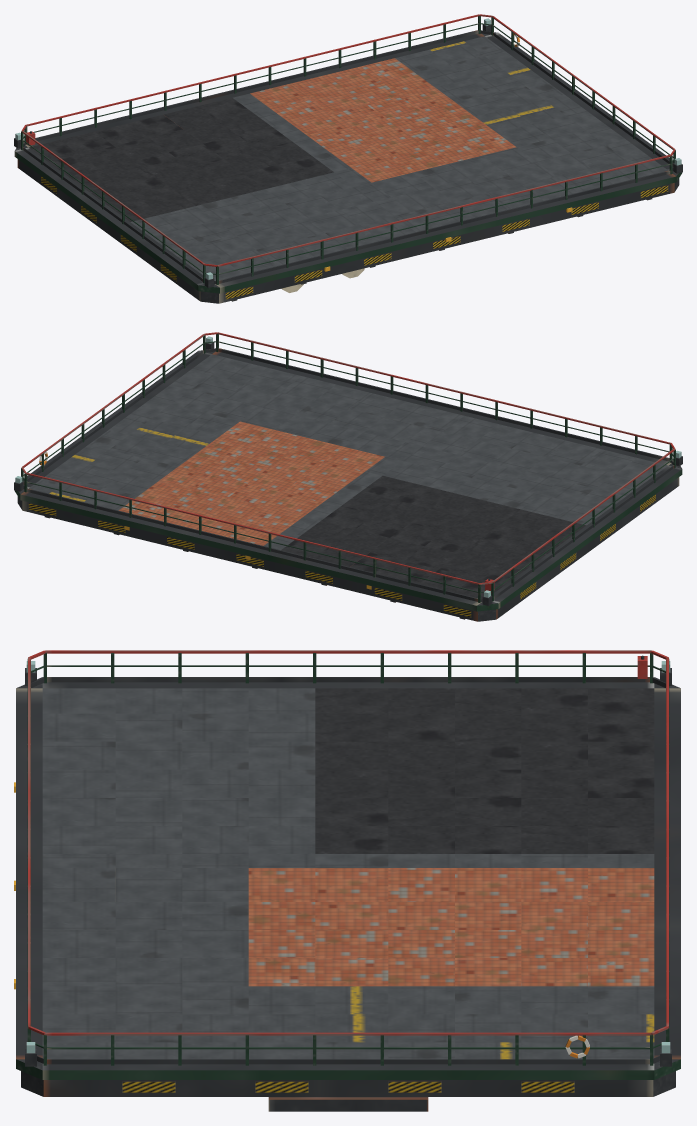
Rendered from Platform.fbx.
3 renders of one model, top to bottom at view 1: azimuth 30°, elevation 25°; view 2: azimuth 150°, elevation 25°; view 3: azimuth 270°, elevation 25°, orthographic. The views are drawn at different scales.
Parts seen in each view (by area): view 1: Platform; view 2: Platform; view 3: Platform.
Part boxes in pixels (left/top/right/bottom): Platform: left=14, top=14, right=682, bottom=303; Platform: left=14, top=332, right=682, bottom=621; Platform: left=14, top=650, right=680, bottom=1111.
Size of the model in its own units: 28 by 5.46 by 20.12.
